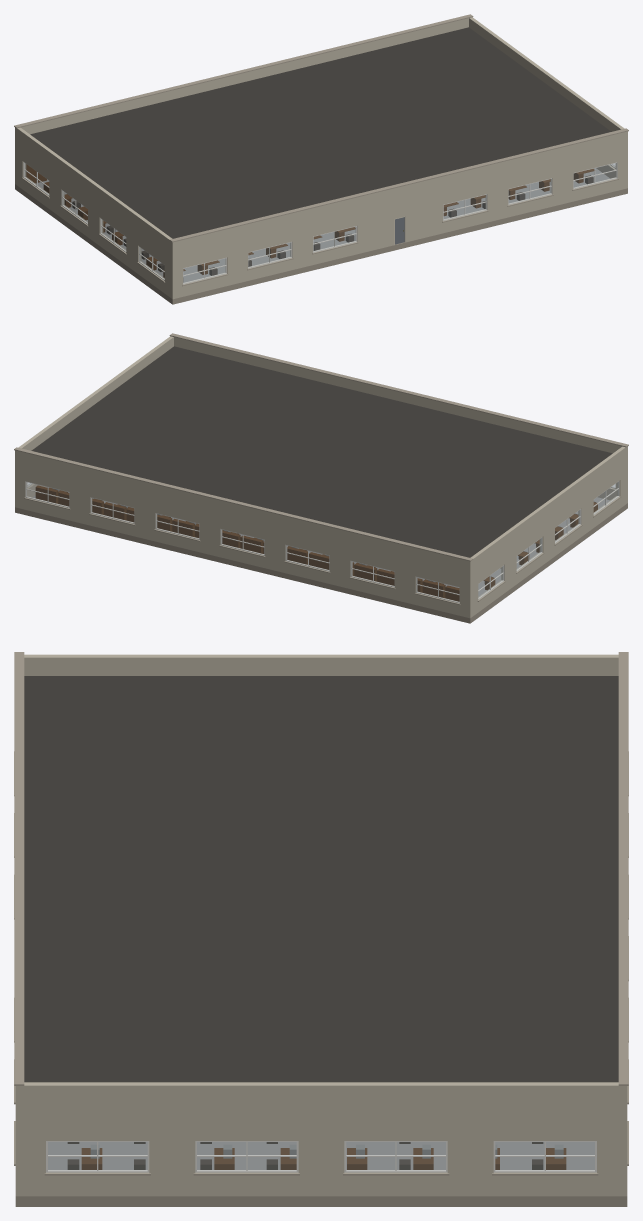
File: mess_hall.glb
3 renders of one model, top to bottom at view 1: azimuth 30°, elevation 25°; view 2: azimuth 150°, elevation 25°; view 3: azimuth 270°, elevation 25°, orthographic. The views are drawn at different scales.
Parts seen in each view (by area): view 1: LOD0, FURN; view 2: LOD0, FURN; view 3: LOD0, FURN.
Part boxes in pixels (left/top/right/bottom): LOD0: left=14, top=14, right=628, bottom=304; FURN: left=26, top=164, right=594, bottom=282; LOD0: left=14, top=333, right=628, bottom=623; FURN: left=35, top=485, right=597, bottom=601; LOD0: left=14, top=652, right=628, bottom=1206; FURN: left=67, top=1142, right=566, bottom=1169.
Size of what is drawn, in the model's own units: 40.12 by 5.33 by 24.12.
